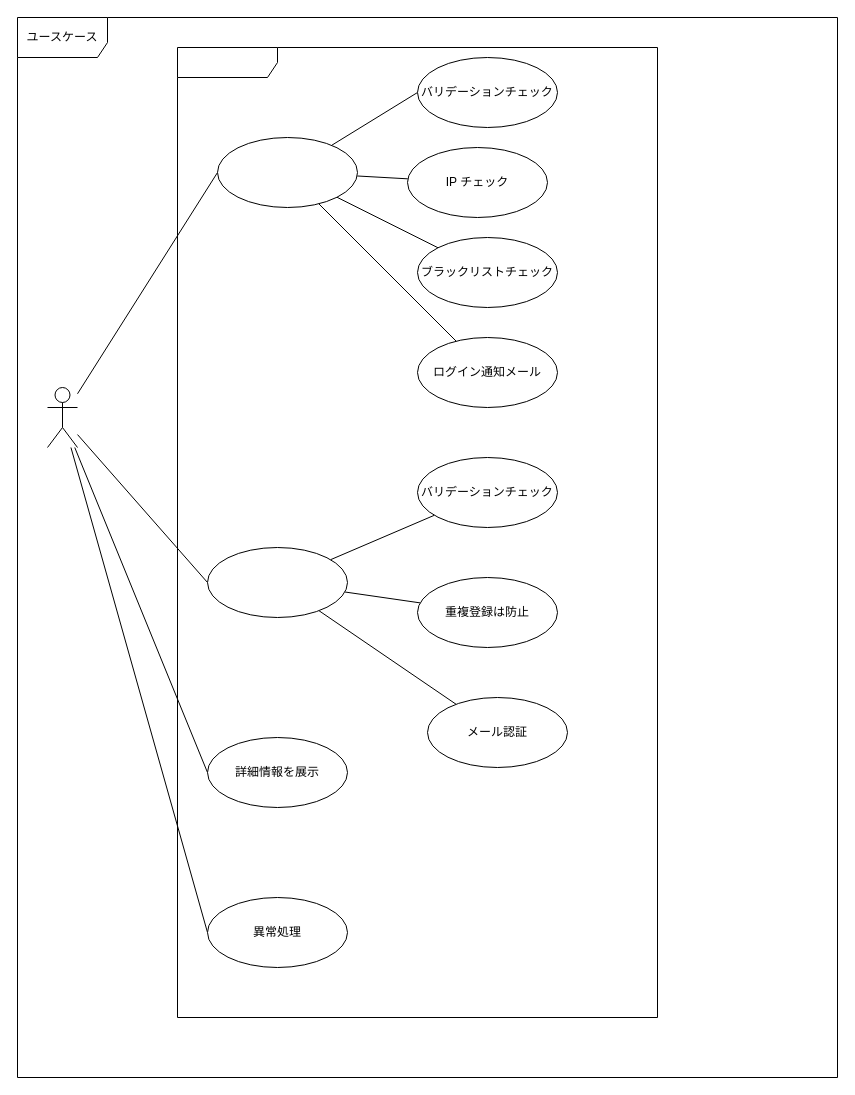
Image size: 855x1095. Some labels were removed from this diagram. Here are the shapes that lost their labels. From the top down, the box of each, then its label:
(216, 136, 358, 208): ログイン
(46, 386, 78, 448): Actor
(176, 46, 658, 1018): ASUUserService
(206, 546, 348, 618): 登録
